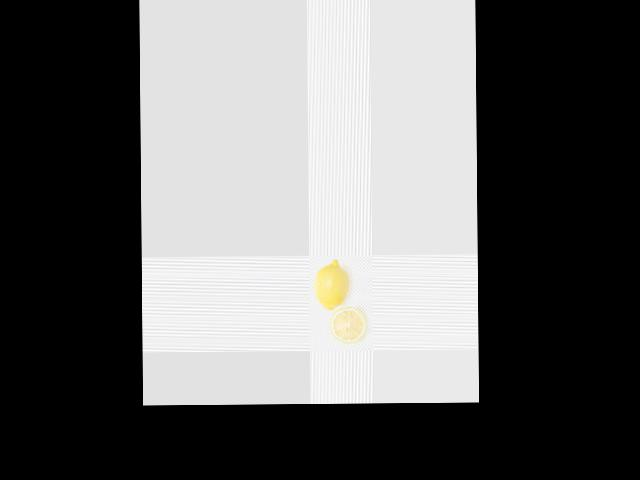lemon: (310, 259, 347, 315)
